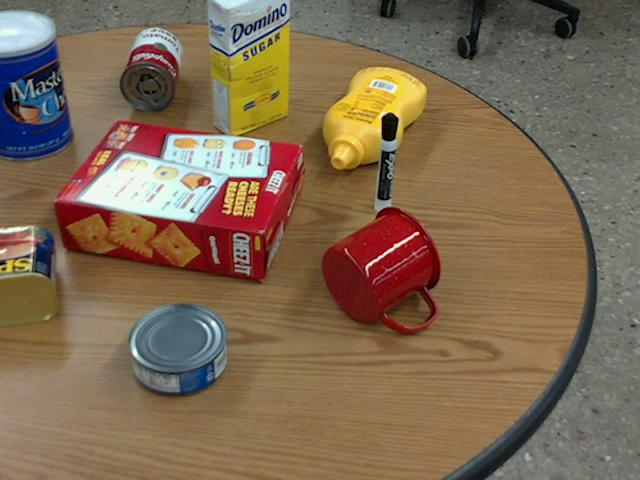cracker_box: (56, 119, 301, 279)
large_marker: (375, 112, 397, 212)
master_chef_can: (0, 10, 72, 159)
mug: (322, 206, 442, 331)
mustard_bottle: (322, 68, 425, 169)
potted_meat_can: (0, 223, 55, 324)
sugar_box: (208, 0, 289, 137)
tomato_soup_can: (119, 28, 180, 109)
tuna_fish_can: (126, 302, 225, 394)
